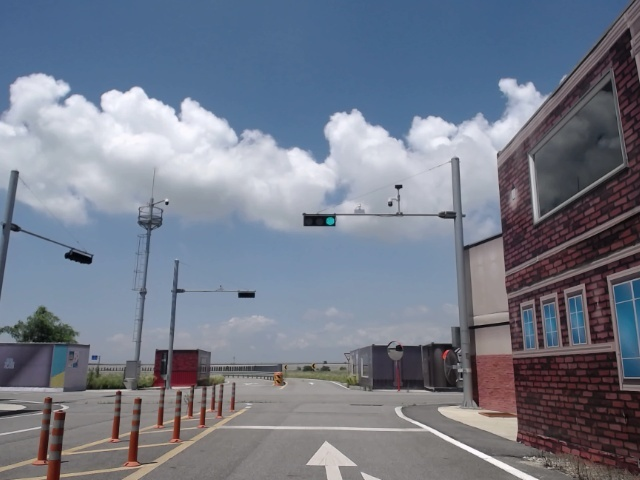green_3: (304, 216, 335, 226)
